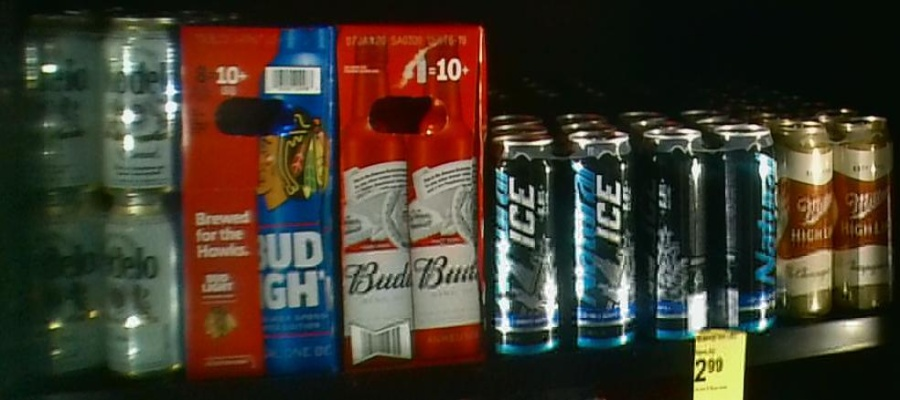bottle: (1, 16, 177, 376), (179, 18, 336, 367), (333, 21, 486, 366), (492, 135, 634, 350), (641, 133, 777, 329), (773, 121, 892, 321)
